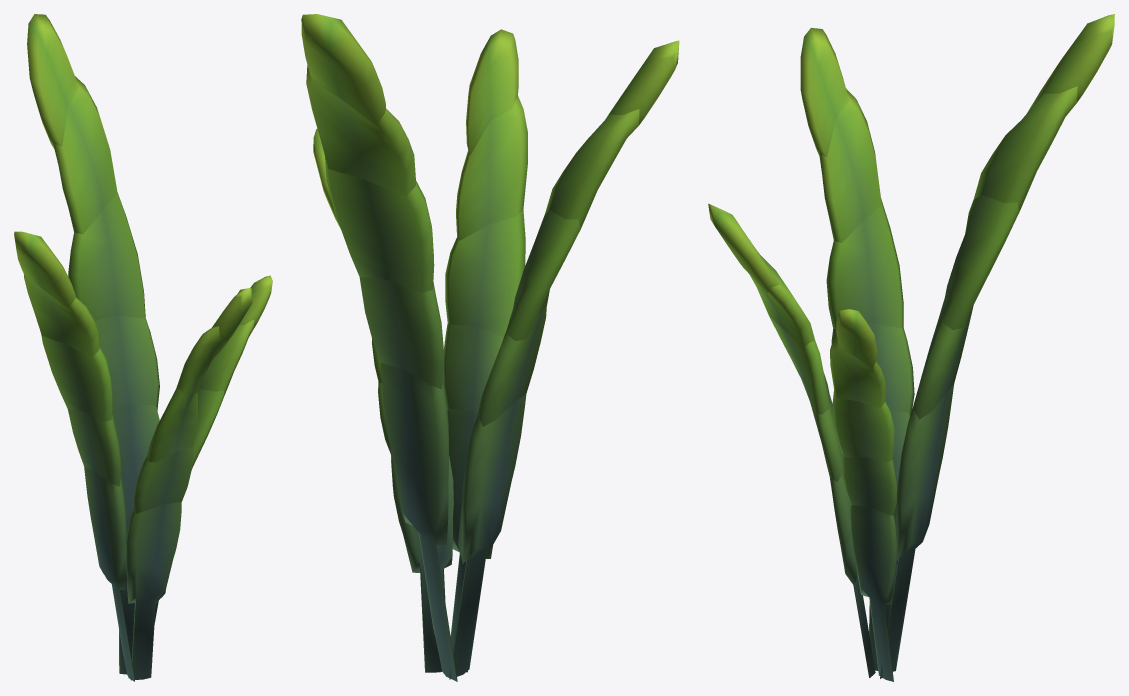
File: Moss_04.fbx
The picture shows the model from 3 angles, left to right: view 1: azimuth 30°, elevation 25°; view 2: azimuth 150°, elevation 25°; view 3: azimuth 270°, elevation 25°; orthographic projection. The views are drawn at different scales.
Visible parts, largest first — view 1: Moss_04; view 2: Moss_04; view 3: Moss_04.
Part boxes in pixels (x1,y1,x2,y2): Moss_04: (14, 14, 272, 681); Moss_04: (301, 14, 679, 681); Moss_04: (708, 14, 1114, 681).
Bounding box in the file's own units: 130 × 271 × 151.
